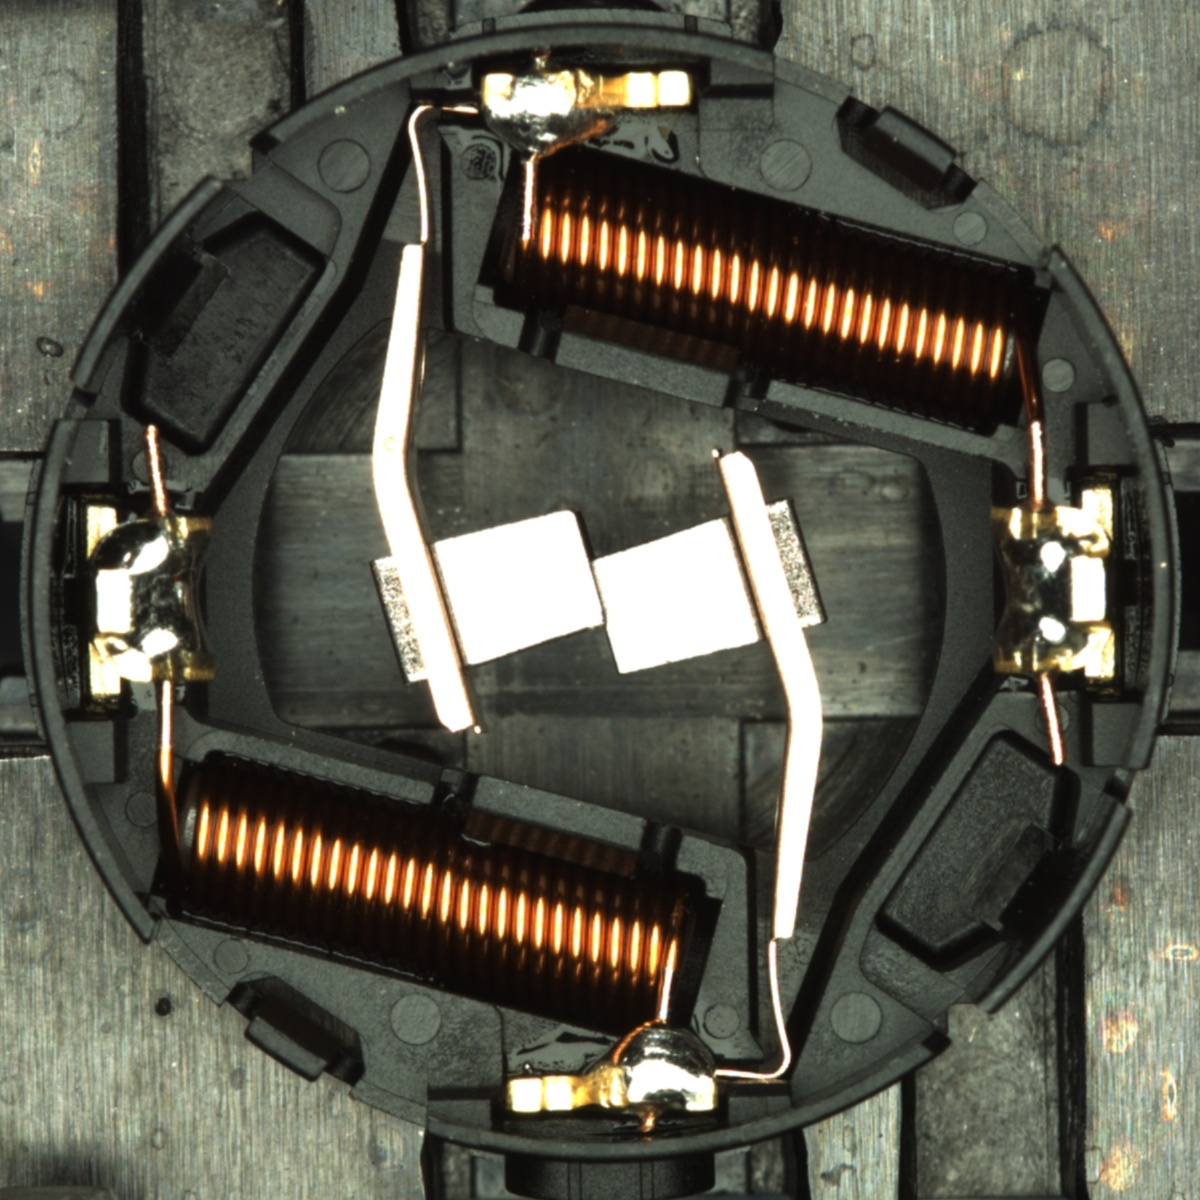1: (251, 30, 480, 255), (709, 927, 938, 1153)
2: (709, 30, 938, 255), (251, 927, 480, 1153)
3: (22, 255, 251, 479), (938, 703, 1167, 927)
4: (251, 255, 480, 479), (709, 703, 938, 927)
5: (480, 143, 709, 367), (480, 815, 709, 1040)
6: (709, 255, 938, 479), (251, 703, 480, 927)
7: (938, 255, 1167, 479), (22, 703, 251, 927)
cacbon: (390, 497, 799, 686)
chau_dien: (982, 487, 1122, 686), (79, 500, 219, 699)
tay_choi: (480, 65, 696, 164), (507, 1018, 720, 1116)
thanh_de: (953, 786, 1140, 1030), (57, 163, 244, 404)
